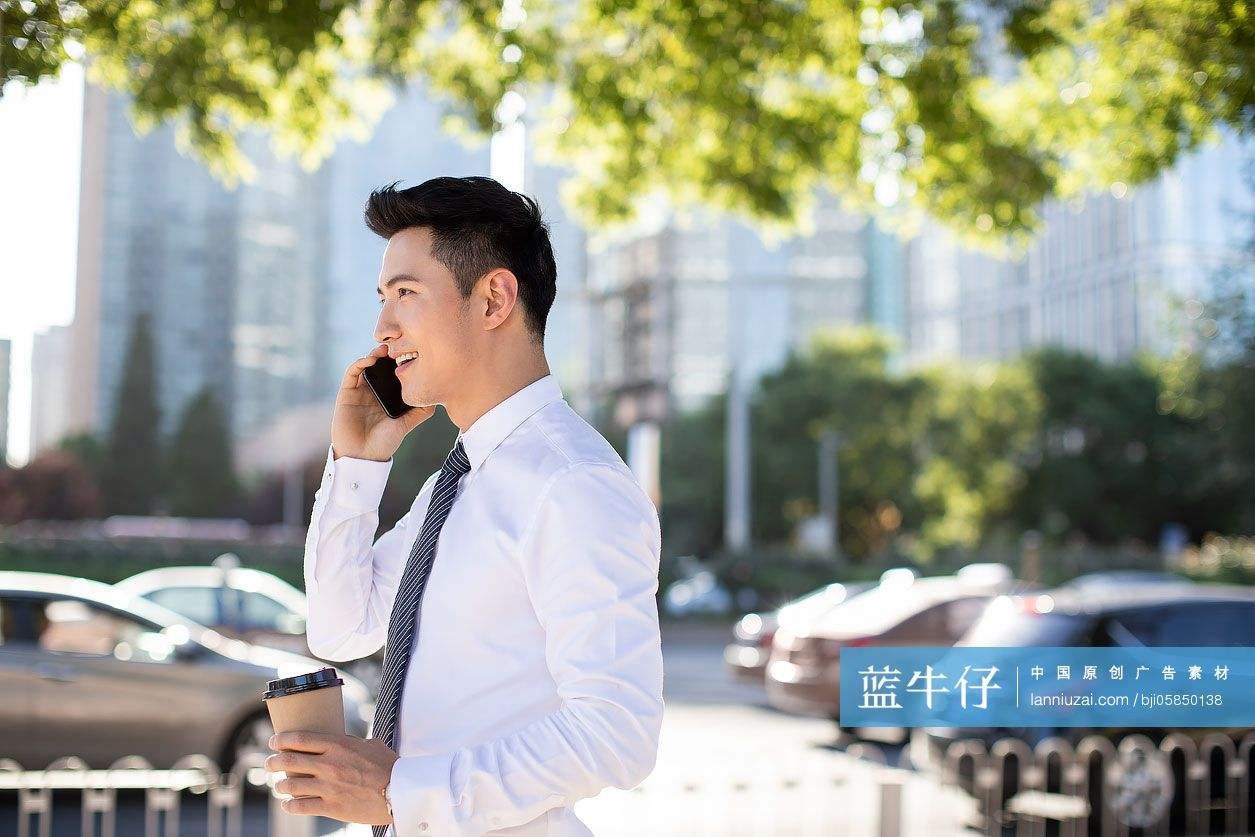calling: (322, 334, 439, 457)
no-phone: (261, 666, 392, 830)
